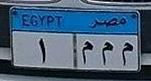1: (37, 36, 48, 63)
meem: (119, 40, 135, 68), (99, 39, 115, 67), (80, 39, 95, 65)
